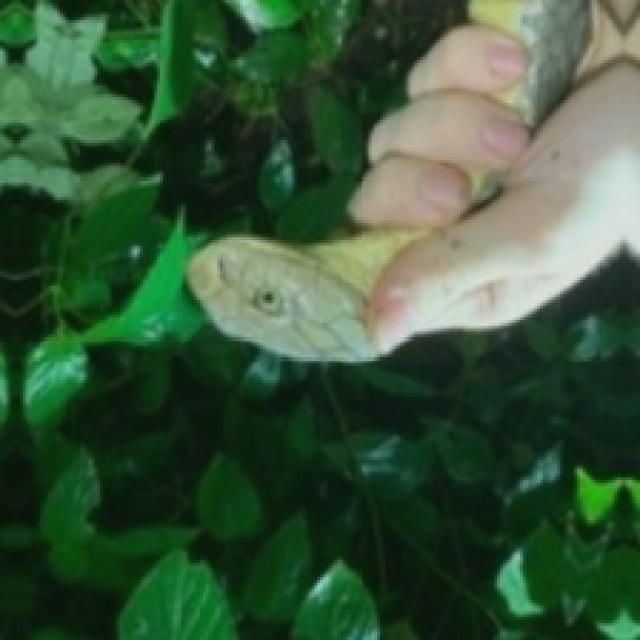king cobra: (189, 0, 637, 360), (189, 0, 543, 357)
